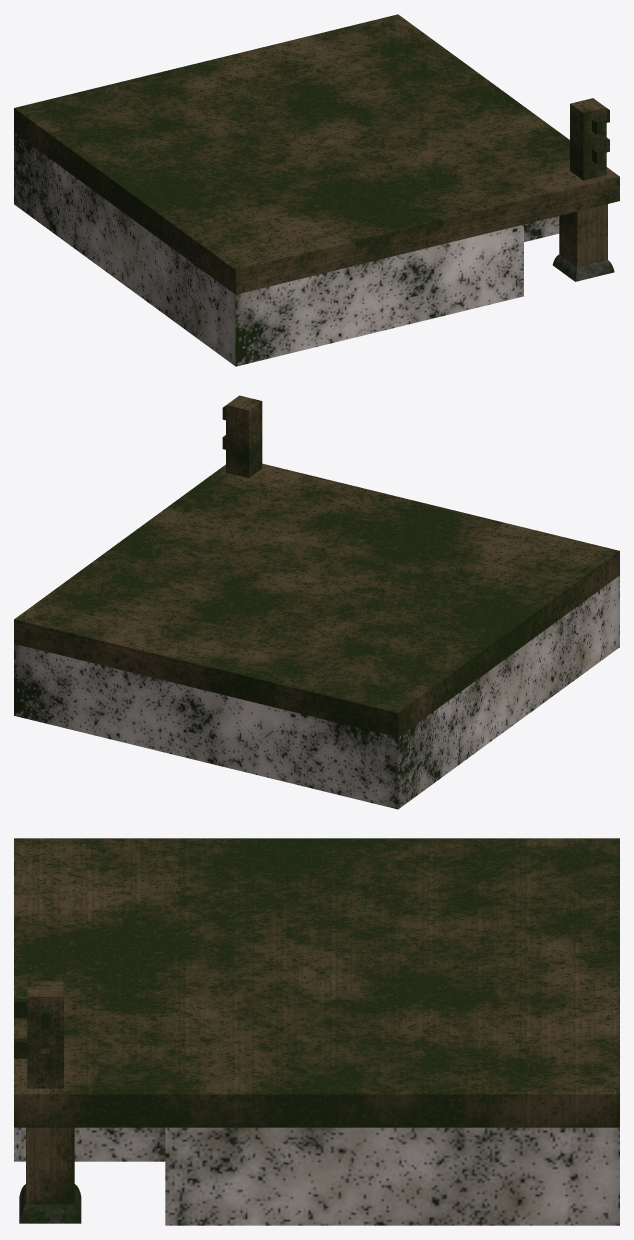
File: shrine_floor_outside_incorner_01.fbx
3 renders of one model, top to bottom at view 1: azimuth 30°, elevation 25°; view 2: azimuth 150°, elevation 25°; view 3: azimuth 270°, elevation 25°, orthographic. The views are drawn at different scales.
Parts seen in each view (by area): view 1: shrine_floor_outside_incorner_01; view 2: shrine_floor_outside_incorner_01; view 3: shrine_floor_outside_incorner_01.
Part boxes in pixels (x1=…): shrine_floor_outside_incorner_01: x1=14, y1=14, x2=619, y2=366; shrine_floor_outside_incorner_01: x1=14, y1=395, x2=619, y2=809; shrine_floor_outside_incorner_01: x1=14, y1=838, x2=619, y2=1225.
Size of the model in its own units: 330 by 134 by 330.
1 material, 1 textured.
